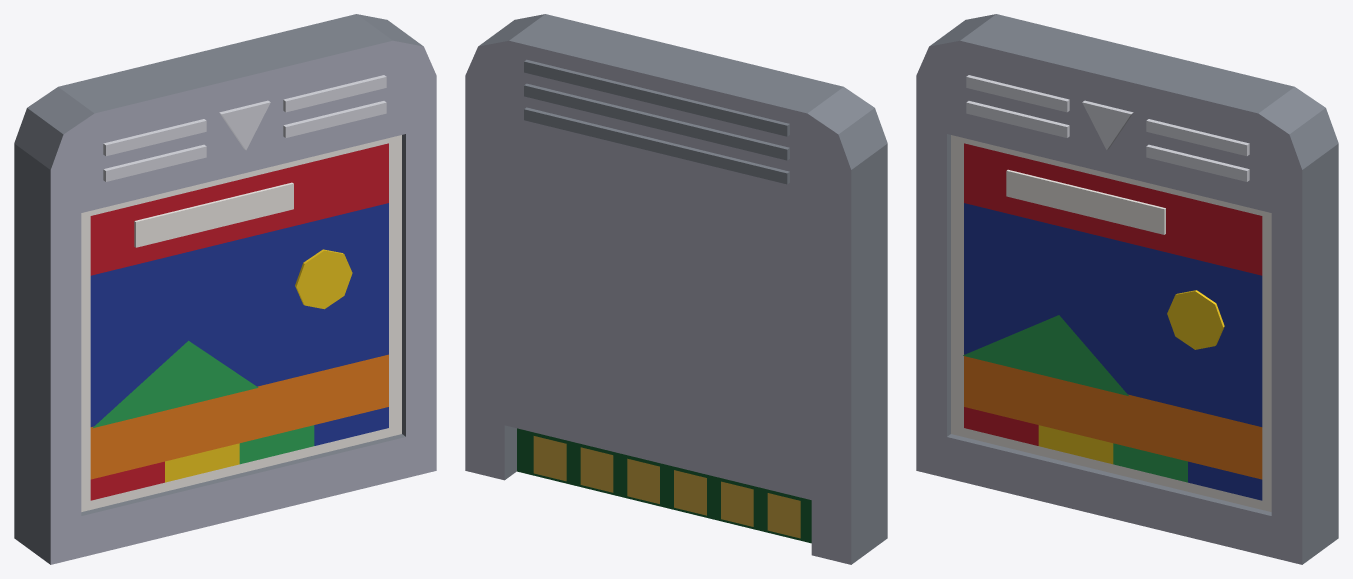
File: ngpc.obj
3 renders of one model, left to right at view 1: azimuth 30°, elevation 25°; view 2: azimuth 150°, elevation 25°; view 3: azimuth 330°, elevation 25°, orthographic.
Parts seen in each view (by area): view 1: ngpc; view 2: ngpc; view 3: ngpc.
Boxes of the visible parts, left/top/right/bottom form: ngpc: left=14, top=14, right=436, bottom=564; ngpc: left=465, top=14, right=887, bottom=564; ngpc: left=916, top=14, right=1338, bottom=564.
Size of the model in its own units: 4.4 by 4.8 by 0.82.
